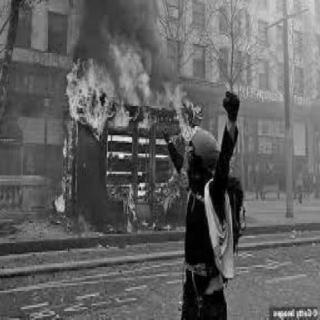other: (200, 169, 248, 281)
